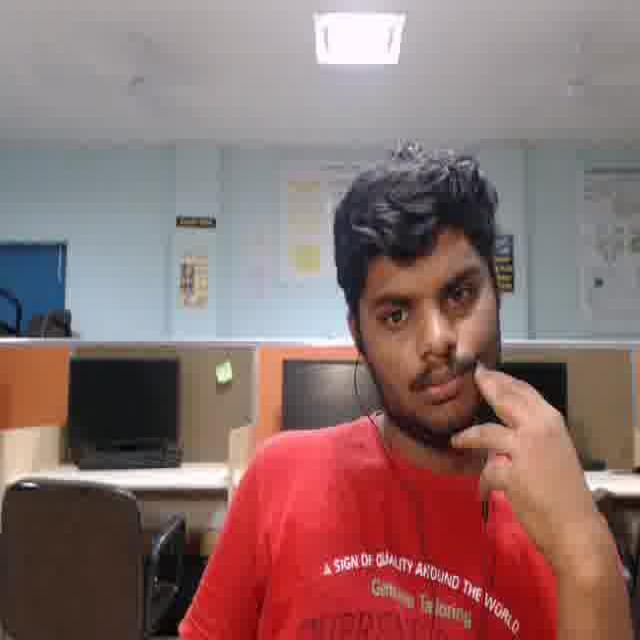Confusion: (358, 225, 490, 424)
